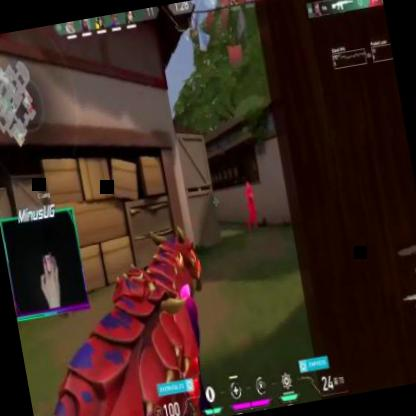enemy: (238, 178, 259, 231)
enemy_head: (244, 180, 251, 192)
